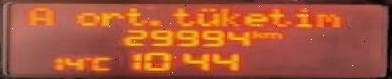-: (147, 18, 162, 25)
0: (142, 51, 171, 70)
1: (130, 52, 142, 71), (53, 56, 64, 70)
2: (121, 28, 145, 45)
4: (209, 51, 239, 70), (180, 51, 209, 70), (225, 29, 251, 45), (66, 56, 85, 70)
9: (199, 29, 223, 46), (173, 28, 197, 45), (147, 28, 171, 45)
X: (266, 6, 291, 27), (171, 5, 195, 26), (122, 5, 147, 25), (29, 6, 55, 25), (195, 7, 220, 26), (220, 6, 242, 25), (313, 12, 339, 27), (72, 12, 98, 25), (244, 12, 266, 27), (294, 7, 310, 27), (90, 56, 111, 71), (98, 12, 121, 25), (263, 31, 282, 38), (251, 29, 265, 38)
